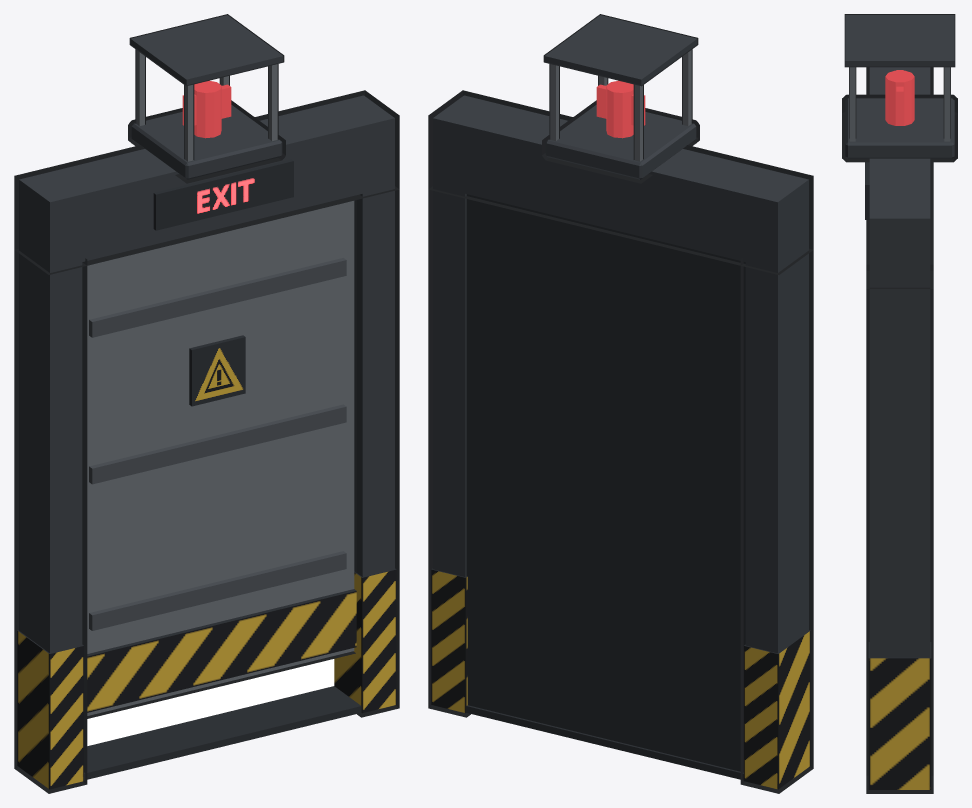
File: SM_ExitDoor.glb
The picture shows the model from 3 angles, left to right: view 1: azimuth 30°, elevation 25°; view 2: azimuth 150°, elevation 25°; view 3: azimuth 270°, elevation 25°; orthographic projection. The views are drawn at different scales.
Parts seen in each view (by area): view 1: SM_ExitDoor_Door, SM_ExitDoor, SM_ExitDoor_Outline, SM_ExitDoor_Door_Outline, SM_ExitDoor_Status; view 2: SM_ExitDoor, SM_ExitDoor_Outline, SM_ExitDoor_Status; view 3: SM_ExitDoor, SM_ExitDoor_Outline, SM_ExitDoor_Status.
Boxes of the visible parts, x1,y1,x2,y2 form: SM_ExitDoor_Door: (87, 201, 356, 715); SM_ExitDoor: (17, 15, 396, 789); SM_ExitDoor_Outline: (14, 14, 399, 793); SM_ExitDoor_Door_Outline: (87, 200, 356, 718); SM_ExitDoor_Status: (182, 80, 231, 138); SM_ExitDoor: (431, 15, 810, 789); SM_ExitDoor_Outline: (428, 14, 813, 793); SM_ExitDoor_Status: (596, 80, 645, 138); SM_ExitDoor: (845, 15, 954, 789); SM_ExitDoor_Outline: (842, 14, 957, 793); SM_ExitDoor_Status: (885, 70, 914, 125).
Bounding box in the file's own units: 3.26 × 6.13 × 0.956.
Materials: 3 (1 with a texture image).
